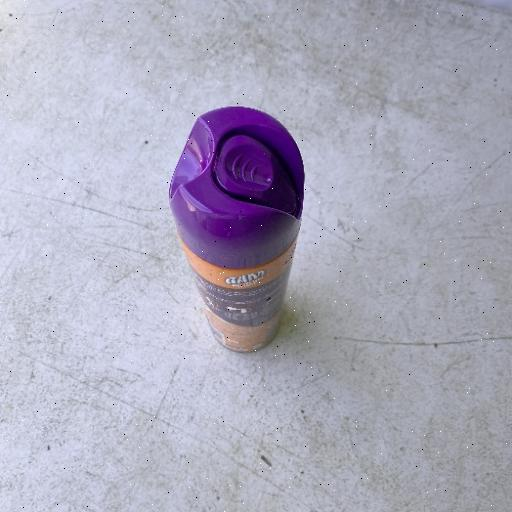Metal: (166, 104, 306, 354)
